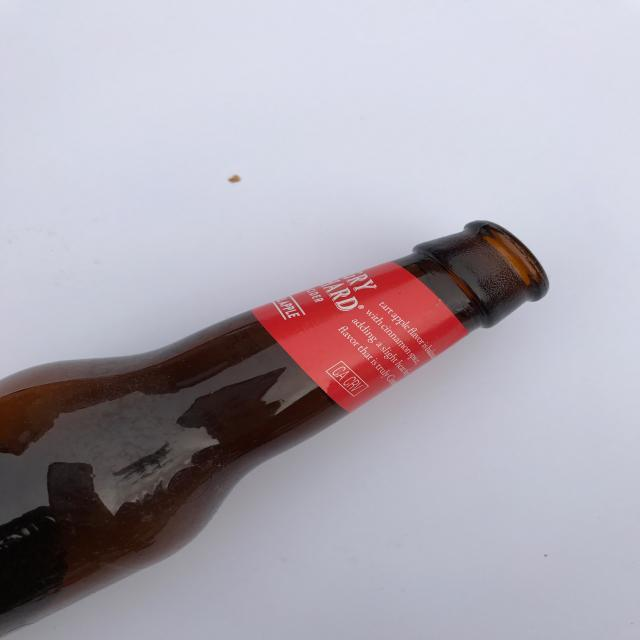glass: (2, 218, 550, 640)
